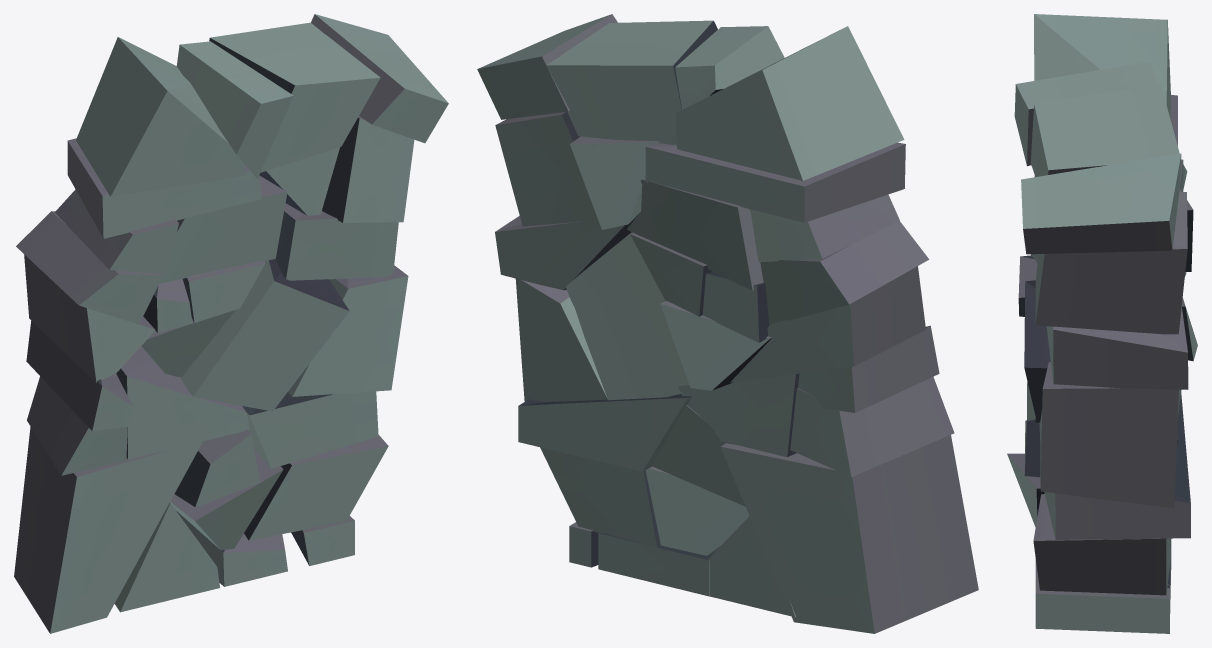
File: wall.fbx
The picture shows the model from 3 angles, left to right: view 1: azimuth 30°, elevation 25°; view 2: azimuth 150°, elevation 25°; view 3: azimuth 270°, elevation 25°; orthographic projection. The views are drawn at different scales.
Parts seen in each view (by area): view 1: Cube.041; view 2: Cube.041; view 3: Cube.041.
Part boxes in pixels (bbox=[...]): Cube.041: bbox=[14, 14, 448, 633]; Cube.041: bbox=[477, 14, 978, 633]; Cube.041: bbox=[1007, 14, 1197, 633].
Size of the model in its own units: 449 by 545 by 178.
